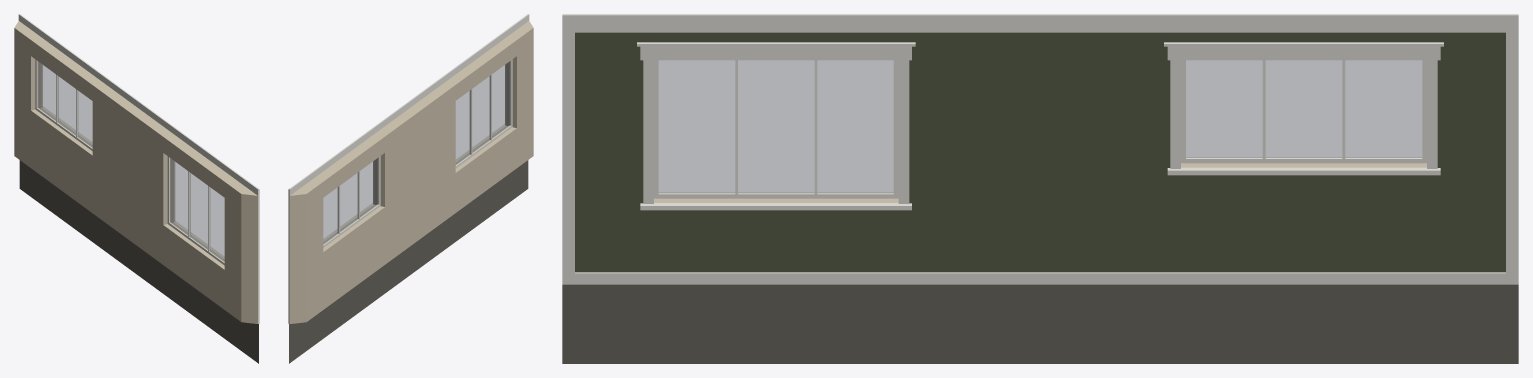
File: wall-05.glb
3 views of the same model, side by side, from view 1: azimuth 30°, elevation 25°; view 2: azimuth 150°, elevation 25°; view 3: azimuth 270°, elevation 25° (orthographic). The views are drawn at different scales.
Size of the model in its own units: 0.8929 by 10.9 by 27.06.
